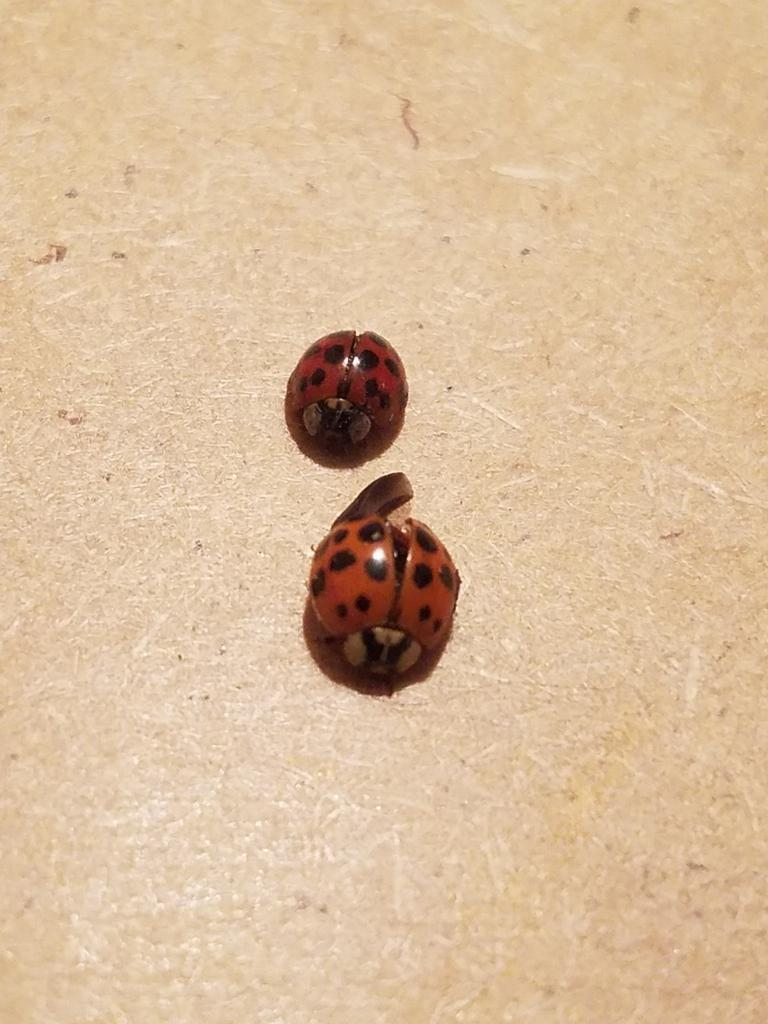ladybug: (307, 470, 465, 701), (285, 326, 412, 464)
